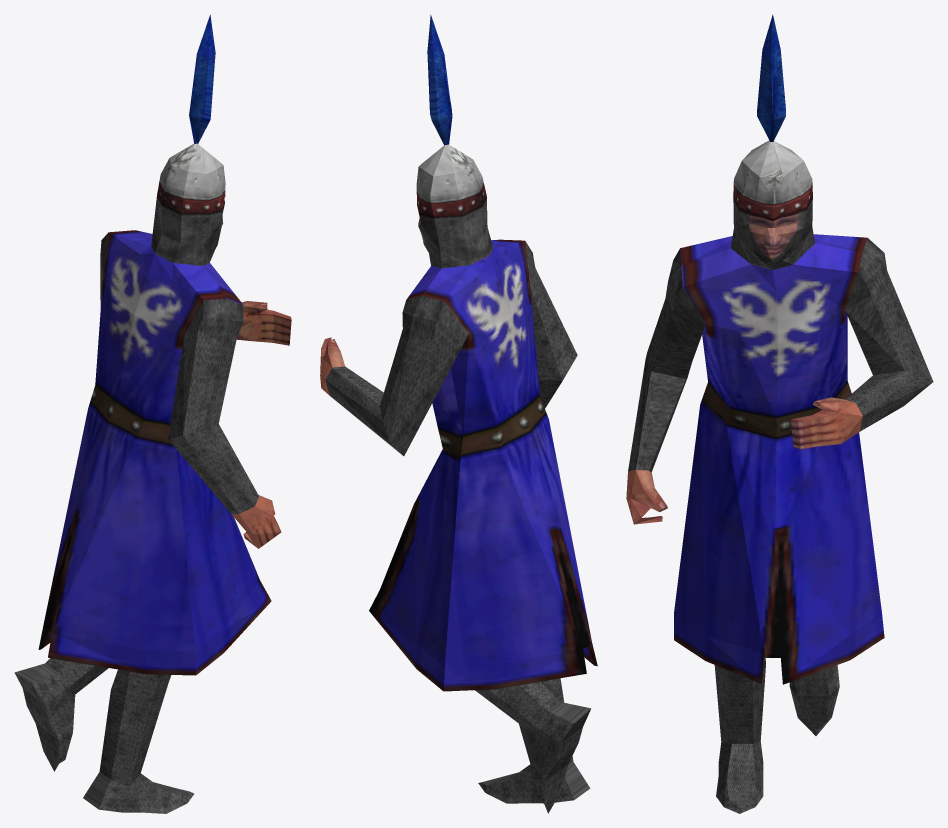
File: guard_run4.obj
3 views of the same model, side by side, from view 1: azimuth 30°, elevation 25°; view 2: azimuth 150°, elevation 25°; view 3: azimuth 270°, elevation 25° (orthographic). The views are drawn at different scales.
Visible parts, largest first — view 1: Object_1; view 2: Object_1; view 3: Object_1.
Part boxes in pixels (box(x1,y1,x2,y2)): Object_1: box(14, 15, 291, 813); Object_1: box(320, 14, 597, 813); Object_1: box(626, 14, 933, 813).
Bounding box in the file's own units: 0.7891 × 2.21 × 0.7497.
1 material, 1 textured.
